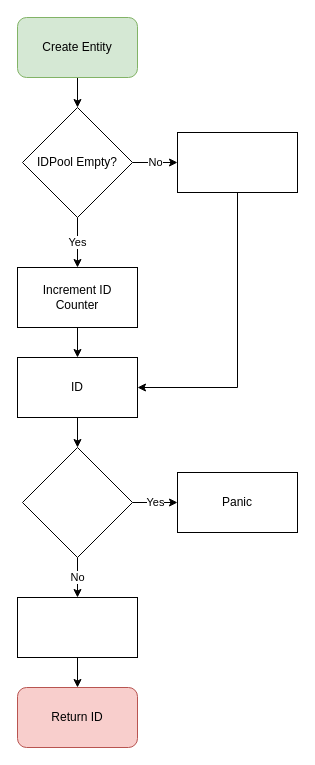
Some shapes in this 315 by 765 pixel diagram are drawn without their labels. Here are the shapes that lost their labels. From the top down, the box of each, then its label:
(176, 132, 298, 192): Get ID from IDPool
(22, 446, 132, 558): ID in EntityList?
(16, 596, 138, 658): Add ID to EntityList
